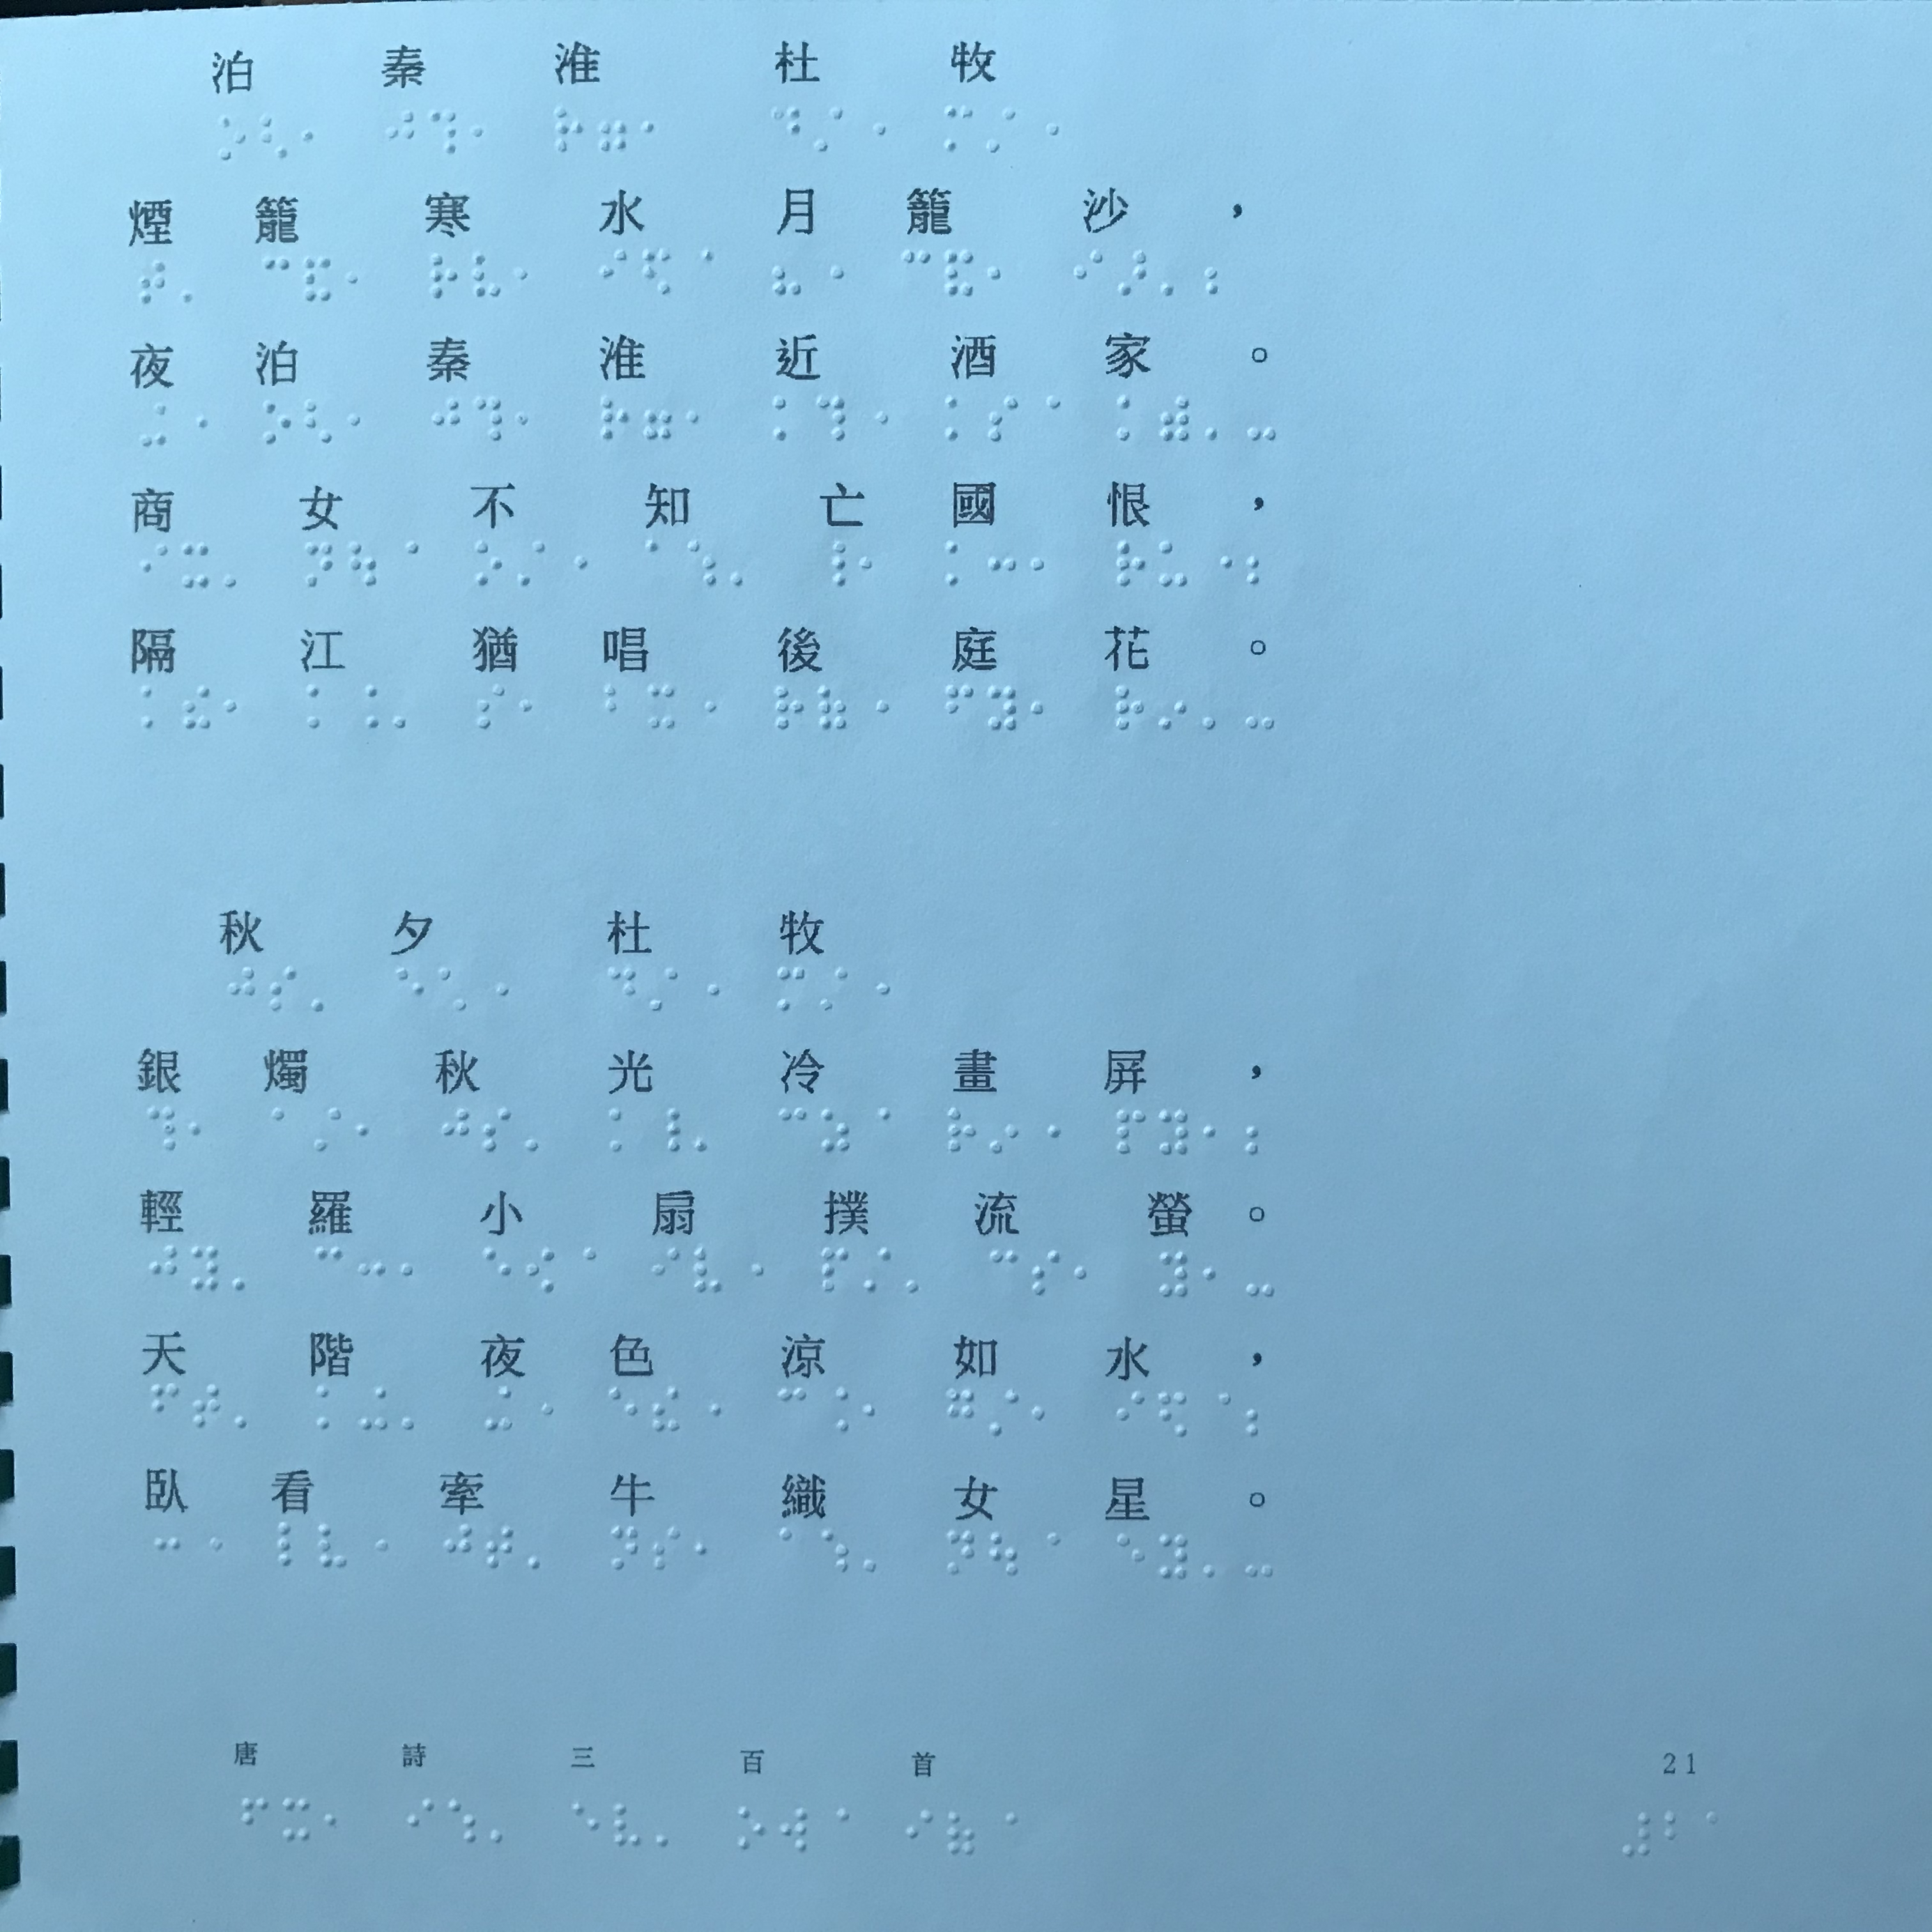Braille: (985, 678, 1019, 734), (1113, 679, 1145, 738), (860, 538, 893, 593), (987, 1102, 1021, 1157), (1115, 1106, 1148, 1159), (1246, 676, 1277, 731), (989, 1527, 1021, 1582), (138, 540, 172, 591), (428, 103, 460, 156), (596, 393, 628, 446), (816, 538, 847, 591), (694, 1242, 725, 1295), (525, 1247, 559, 1297), (471, 248, 501, 303), (1161, 391, 1191, 446), (389, 536, 419, 591), (987, 536, 1017, 591), (1159, 538, 1189, 593), (395, 962, 425, 1017), (444, 1518, 474, 1573), (1161, 1530, 1191, 1585), (814, 104, 846, 156), (814, 393, 846, 444), (644, 679, 676, 731), (265, 959, 297, 1010), (648, 1106, 679, 1157), (354, 1242, 386, 1293), (483, 1520, 515, 1571), (771, 103, 805, 150), (1244, 1251, 1277, 1299), (182, 536, 211, 593), (1030, 534, 1058, 591), (216, 113, 246, 166), (987, 101, 1017, 154), (428, 249, 458, 303), (1116, 244, 1146, 297), (474, 391, 504, 444), (474, 536, 504, 589), (1201, 538, 1231, 591), (182, 678, 212, 731), (943, 681, 973, 734), (1157, 678, 1187, 731), (649, 961, 679, 1014), (945, 1385, 975, 1438), (1115, 1529, 1145, 1582), (771, 681, 803, 731), (821, 1244, 853, 1293), (483, 1385, 515, 1435), (318, 1520, 350, 1569), (258, 111, 287, 166), (644, 244, 672, 299), (773, 246, 801, 301), (347, 393, 375, 448), (437, 962, 465, 1017), (607, 961, 635, 1016), (1033, 1244, 1062, 1299), (359, 1380, 387, 1435), (945, 246, 975, 297), (1072, 246, 1102, 297), (303, 396, 333, 448), (1249, 391, 1279, 442), (304, 538, 334, 589), (821, 1104, 851, 1155), (651, 1244, 681, 1295), (193, 1376, 223, 1428), (819, 1385, 849, 1437), (149, 1242, 180, 1290), (138, 257, 166, 310), (1161, 246, 1189, 299), (559, 538, 587, 591), (1244, 1104, 1272, 1157), (943, 101, 973, 150), (515, 540, 545, 589), (729, 538, 759, 587), (1115, 541, 1145, 591), (140, 681, 170, 731), (398, 1244, 428, 1293), (987, 1246, 1017, 1295), (232, 1382, 262, 1431), (1115, 1389, 1145, 1438), (1159, 1389, 1189, 1438), (384, 110, 416, 156), (301, 110, 327, 165), (1161, 1104, 1187, 1159), (945, 538, 973, 589), (225, 679, 253, 731), (690, 962, 718, 1014), (947, 1104, 975, 1155), (1074, 1247, 1102, 1299), (1159, 1247, 1187, 1299), (780, 1385, 809, 1437), (655, 1522, 683, 1573), (476, 681, 506, 729), (147, 1104, 177, 1152), (150, 1378, 180, 1426), (400, 1385, 430, 1433), (947, 1810, 977, 1858), (1205, 244, 1231, 297), (350, 538, 377, 591), (821, 683, 847, 736), (862, 683, 888, 736), (1200, 678, 1226, 731), (228, 959, 255, 1012), (865, 964, 892, 1017), (1037, 1106, 1063, 1159), (554, 106, 582, 156), (640, 104, 669, 154), (304, 255, 333, 304), (644, 395, 672, 444), (644, 538, 672, 587), (1246, 538, 1274, 587), (522, 678, 547, 734), (603, 681, 632, 731), (690, 681, 718, 731), (186, 1100, 214, 1150), (481, 1106, 510, 1155), (738, 1244, 766, 1293), (154, 1522, 182, 1571), (195, 1520, 223, 1569), (283, 1792, 311, 1842), (904, 1806, 932, 1856), (1622, 1810, 1651, 1859), (596, 108, 626, 154), (262, 398, 292, 444), (269, 1106, 299, 1152), (189, 1244, 219, 1290), (904, 1247, 934, 1293), (694, 1527, 724, 1573), (862, 104, 888, 156), (517, 393, 543, 444), (1118, 391, 1145, 442), (821, 961, 847, 1012), (655, 1387, 681, 1438), (600, 246, 628, 294), (904, 246, 932, 294), (432, 396, 460, 444), (442, 1108, 471, 1155), (522, 1108, 550, 1155), (692, 1108, 720, 1155), (863, 1246, 892, 1293), (863, 1385, 892, 1433), (1246, 1389, 1274, 1437), (863, 1527, 892, 1575), (947, 1527, 975, 1575), (1033, 1527, 1062, 1575), (614, 1801, 642, 1849), (1665, 1810, 1695, 1854), (817, 249, 844, 299), (985, 248, 1012, 297), (945, 393, 971, 442), (991, 393, 1017, 442), (1035, 393, 1062, 442), (688, 538, 715, 587), (310, 962, 336, 1012), (481, 966, 508, 1016), (356, 1106, 382, 1155), (610, 1106, 637, 1155), (1200, 1249, 1226, 1299), (1031, 1387, 1058, 1437), (821, 1525, 847, 1575), (140, 403, 168, 449), (860, 396, 888, 442), (313, 1106, 341, 1152), (991, 1389, 1019, 1435), (1205, 1392, 1233, 1438), (610, 1525, 639, 1571), (1200, 1534, 1228, 1580), (736, 1803, 764, 1849), (782, 1805, 810, 1851), (472, 108, 497, 159), (1035, 103, 1060, 154), (180, 400, 207, 448), (688, 395, 715, 442), (1207, 393, 1233, 441), (350, 683, 377, 731), (393, 683, 419, 731), (483, 1246, 510, 1293), (612, 1389, 639, 1437), (780, 1527, 807, 1575), (1247, 1534, 1274, 1582), (230, 1246, 258, 1290), (821, 1805, 849, 1849), (989, 1810, 1017, 1854), (1707, 1810, 1736, 1854), (1033, 681, 1058, 731), (571, 1244, 596, 1293), (324, 1794, 349, 1844), (685, 246, 711, 292), (773, 396, 800, 442), (310, 683, 336, 729), (865, 1104, 892, 1150), (1203, 1104, 1226, 1157), (697, 1391, 724, 1437), (527, 1527, 554, 1573), (241, 1794, 267, 1840), (570, 1801, 596, 1847), (315, 1242, 343, 1284), (651, 1805, 679, 1847), (223, 541, 248, 589), (780, 964, 805, 1012), (780, 1106, 805, 1154), (317, 1384, 341, 1431), (529, 1389, 554, 1437), (364, 1522, 389, 1569), (449, 1798, 474, 1845), (515, 249, 538, 301), (179, 260, 205, 304), (278, 1522, 304, 1566), (345, 255, 368, 304), (407, 1798, 432, 1842), (265, 255, 290, 297), (490, 1799, 515, 1842)
